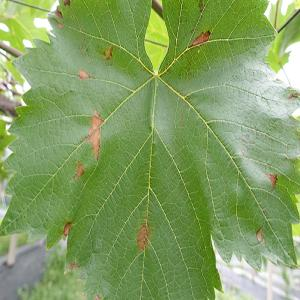Folha: (1, 0, 299, 299)
Fungo: (85, 108, 105, 160), (136, 222, 150, 250), (190, 30, 210, 46), (52, 6, 64, 28), (72, 160, 84, 180), (266, 171, 278, 188), (103, 44, 113, 61), (78, 68, 91, 81), (63, 221, 71, 236), (255, 226, 262, 242), (68, 262, 79, 272), (54, 6, 62, 19), (288, 90, 298, 100), (198, 0, 204, 13), (263, 210, 268, 219), (64, 0, 70, 6), (94, 294, 100, 299)
